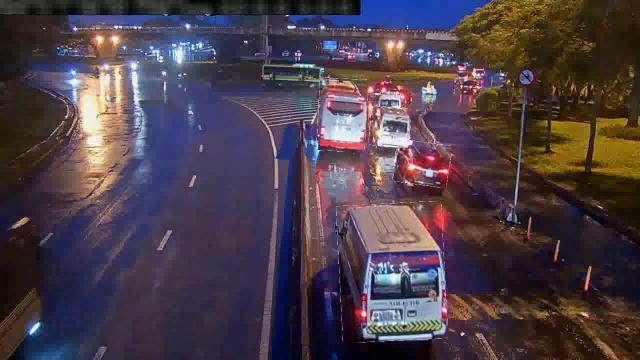Bus: (338, 202, 446, 342), (317, 78, 367, 151), (369, 107, 411, 147)
Car: (394, 140, 451, 186)
